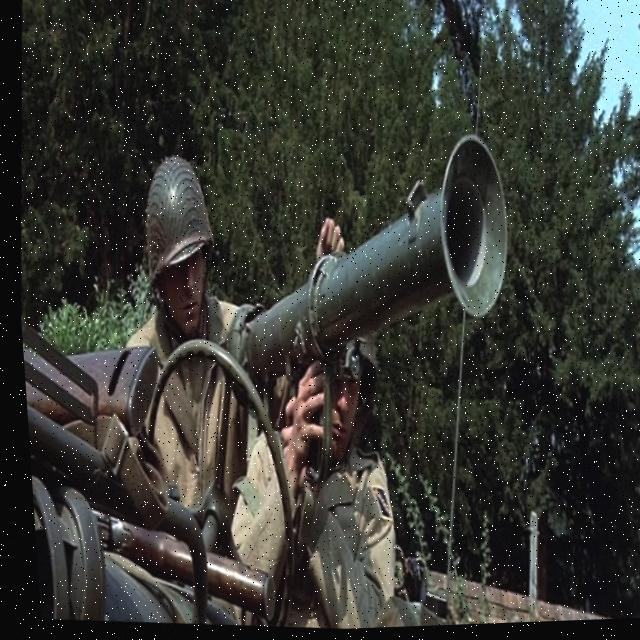rocket: (212, 117, 521, 412)
